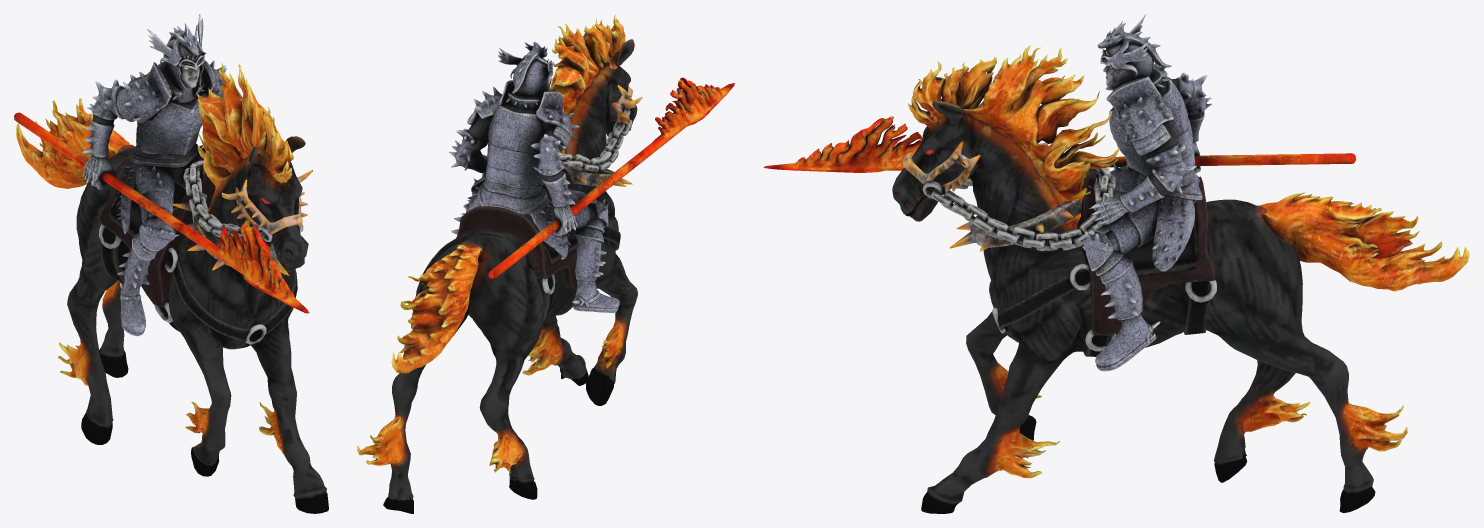
Rendered from MZ4250 - Narzugon_mounted.glb.
3 views of the same model, side by side, from view 1: azimuth 30°, elevation 25°; view 2: azimuth 150°, elevation 25°; view 3: azimuth 270°, elevation 25° (orthographic). The views are drawn at different scales.
Visible parts, largest first — view 1: Horse-base.002; view 2: Horse-base.002; view 3: Horse-base.002.
Boxes of the visible parts, x1,y1,x2,y2 form: Horse-base.002: (14, 14, 328, 513); Horse-base.002: (357, 14, 734, 513); Horse-base.002: (763, 14, 1469, 513).
Size of the model in its own units: 53.59 by 139 by 186.
3 materials, 3 textured.
